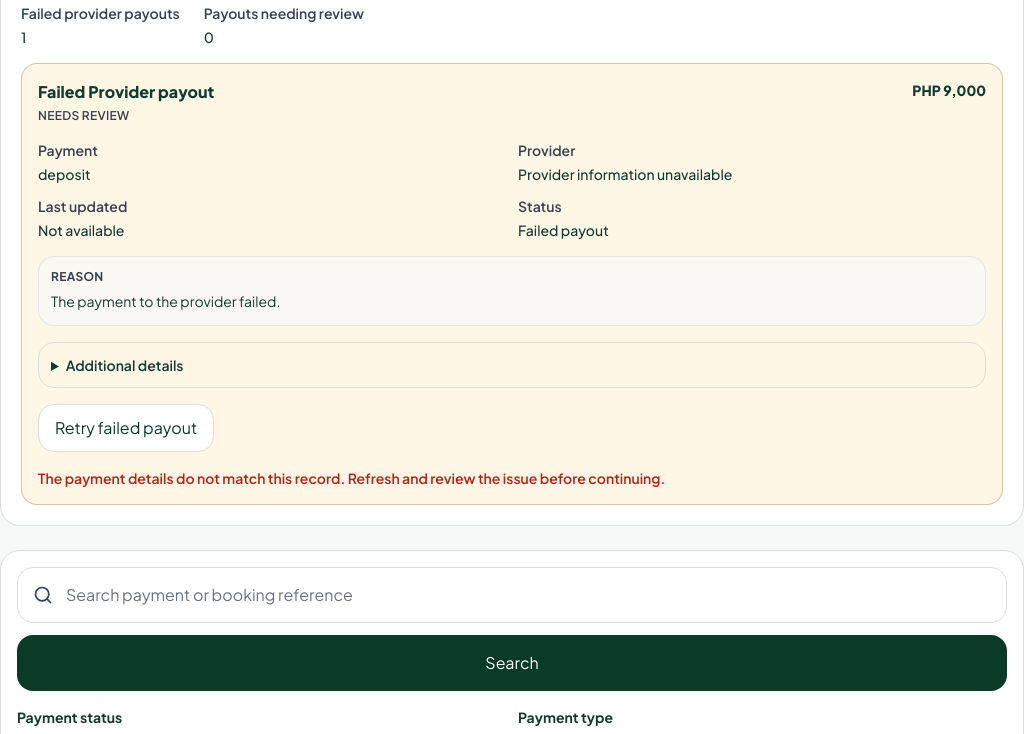
Scenario: shows safe concurrent status-change feedback
(page scrolled)
Click the button "Retry failed payout".
click(126, 428)  # box [38, 404, 214, 452]
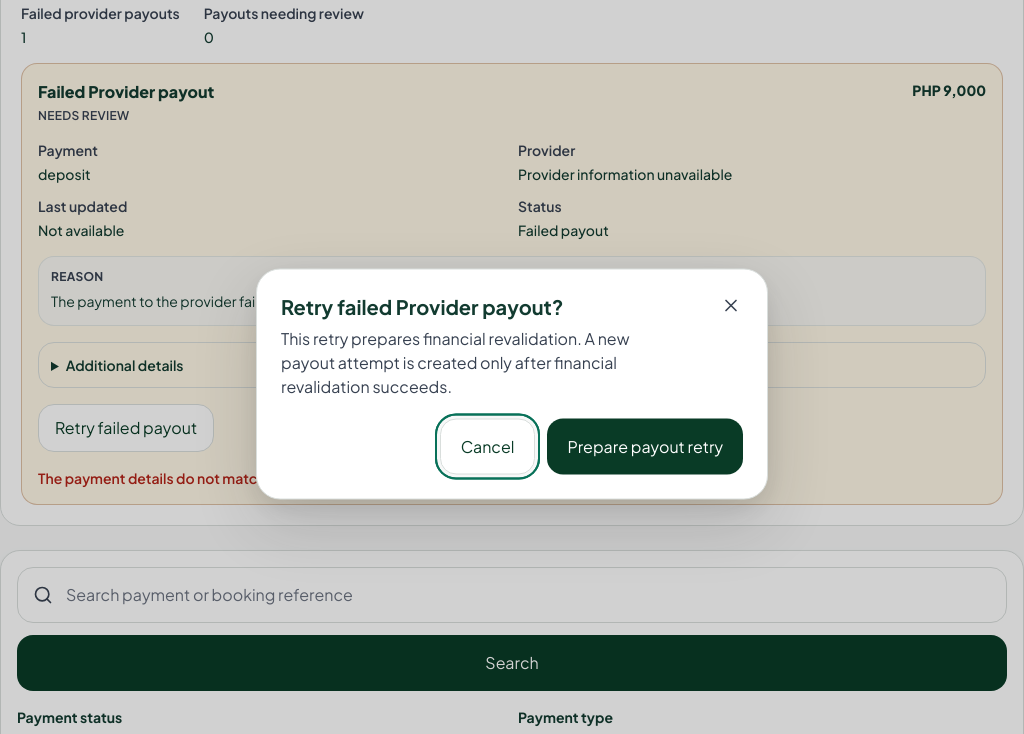
Click the button "Prepare payout retry".
click(645, 446)  # box [547, 418, 743, 474]
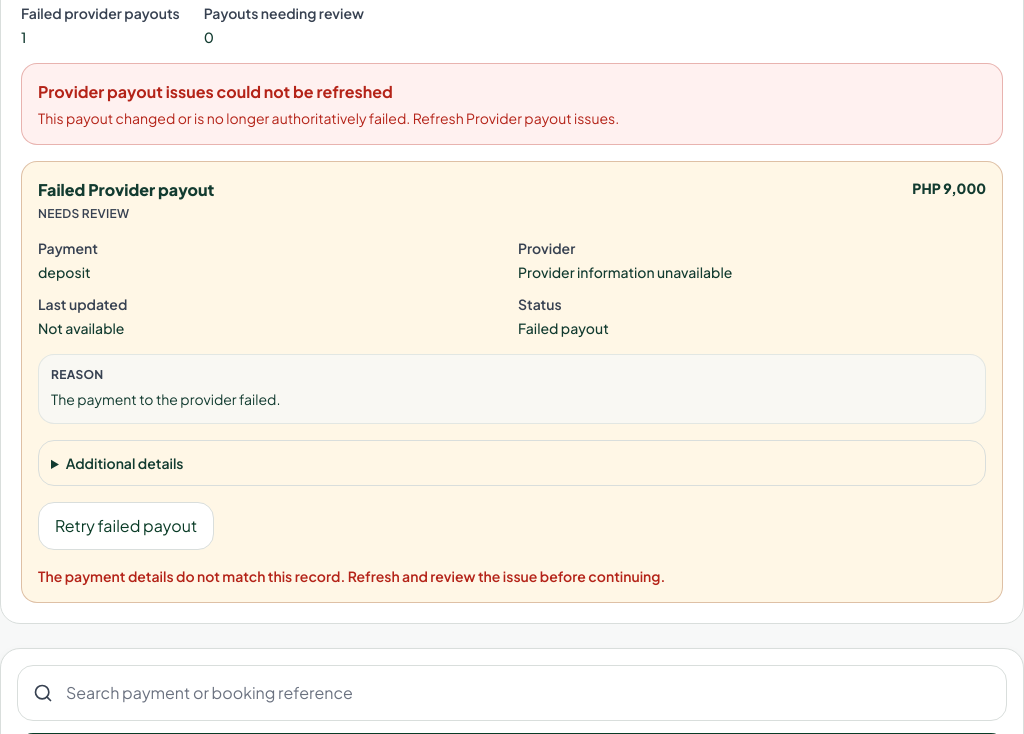
Check: the text "no longer authoritatively failed" is shown, box [38, 109, 619, 127]
